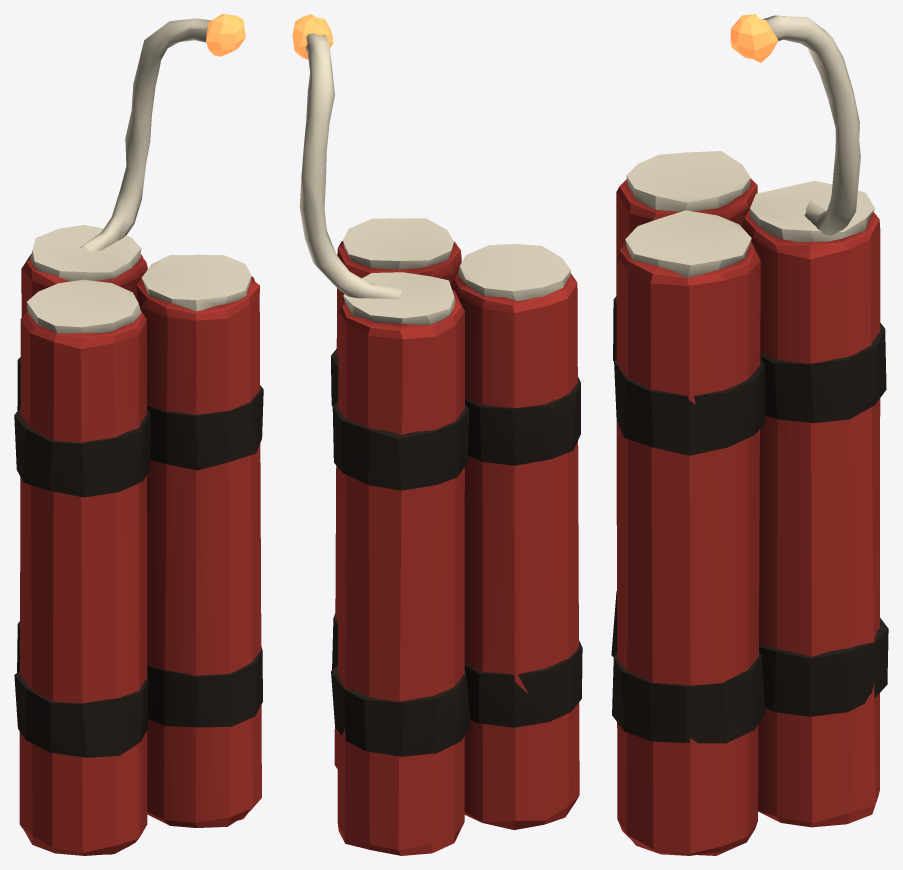
File: dynamite_stick.glb
The picture shows the model from 3 angles, left to right: view 1: azimuth 30°, elevation 25°; view 2: azimuth 150°, elevation 25°; view 3: azimuth 270°, elevation 25°; orthographic projection. The views are drawn at different scales.
Visible parts, largest first — view 1: Dynamite; view 2: Dynamite; view 3: Dynamite.
Boxes of the visible parts, box(x1,y1,x2,y2) form: Dynamite: box(14, 14, 263, 855); Dynamite: box(292, 14, 582, 855); Dynamite: box(611, 14, 888, 855).
Bounding box in the file's own units: 0.1096 × 0.3197 × 0.0944.
